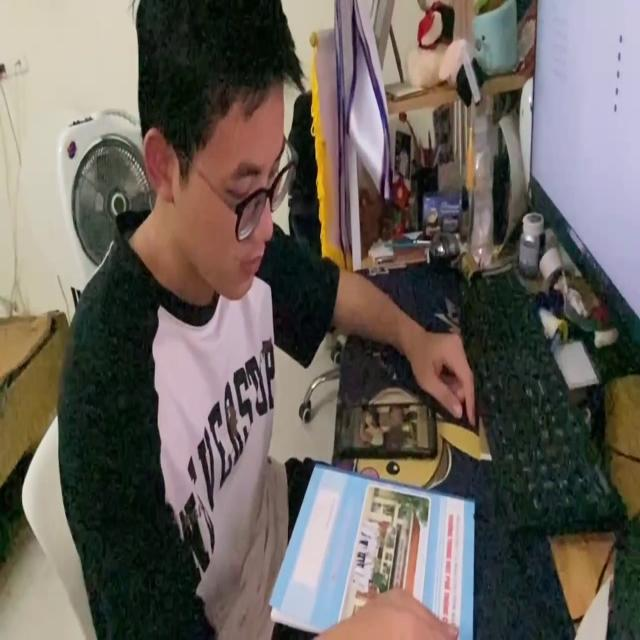book: (263, 457, 475, 640)
phone: (329, 392, 441, 462)
student: (56, 0, 479, 640)
